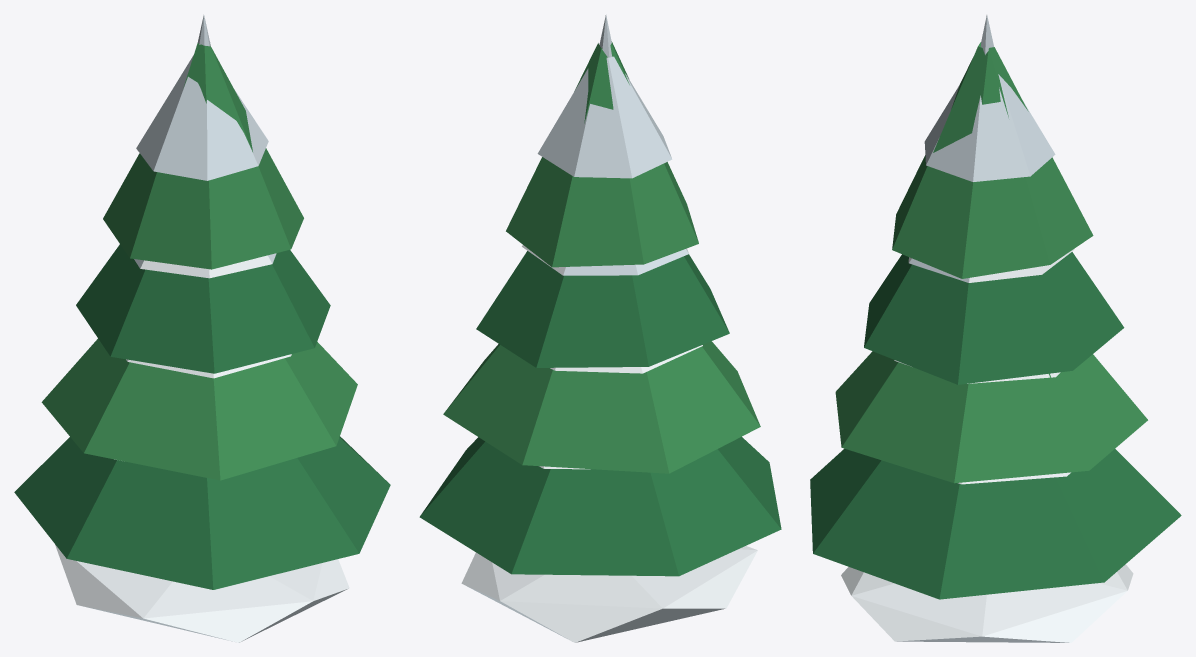
File: fir_tree_medium.glb
The picture shows the model from 3 angles, left to right: view 1: azimuth 30°, elevation 25°; view 2: azimuth 150°, elevation 25°; view 3: azimuth 270°, elevation 25°; orthographic projection. The views are drawn at different scales.
Visible parts, largest first — view 1: part_crown, fir_tree_medium; view 2: part_crown, fir_tree_medium; view 3: part_crown, fir_tree_medium.
Part boxes in pixels (box(x1,y1,x2,y2)): part_crown: box(14, 15, 390, 589); fir_tree_medium: box(55, 544, 349, 642); part_crown: box(419, 14, 781, 576); fir_tree_medium: box(461, 546, 757, 642); part_crown: box(810, 15, 1181, 599); fir_tree_medium: box(841, 564, 1133, 642).
Size of the model in its own units: 1.45 by 2.54 by 1.43.
